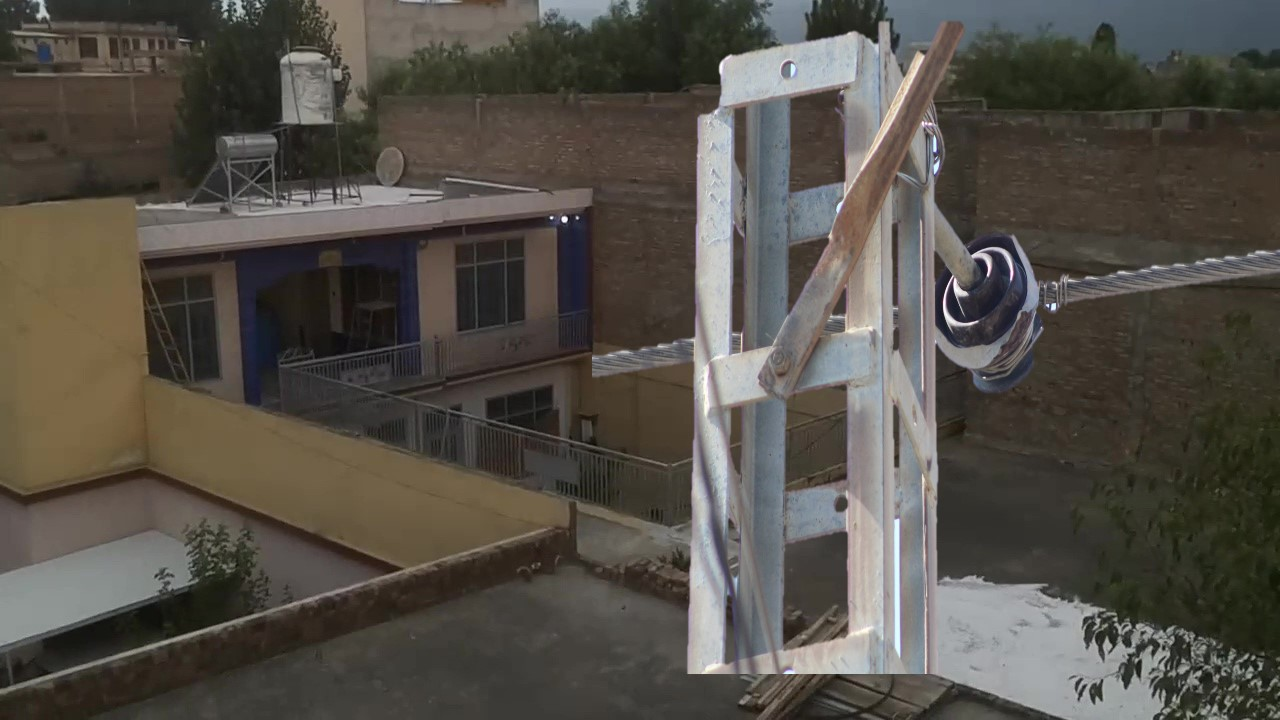defect_pin: (934, 224, 1061, 405)
